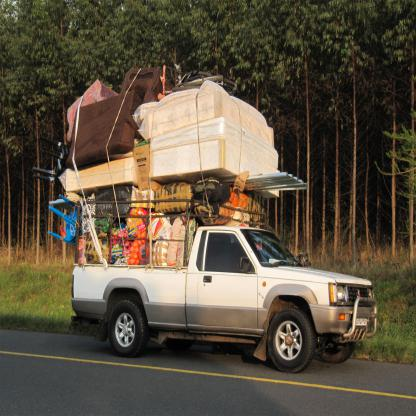overloaded-truck: (47, 65, 311, 332)
